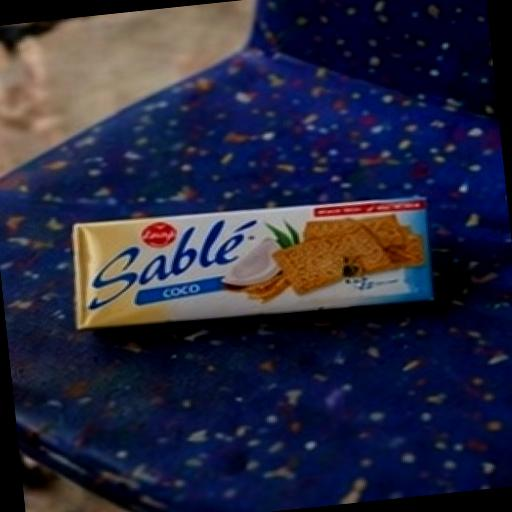sabl: (4, 117, 500, 405)
